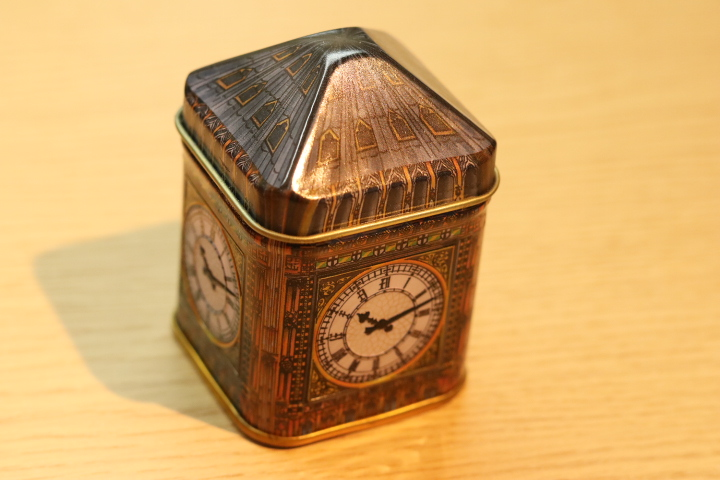Big Ben: (152, 11, 511, 457)
